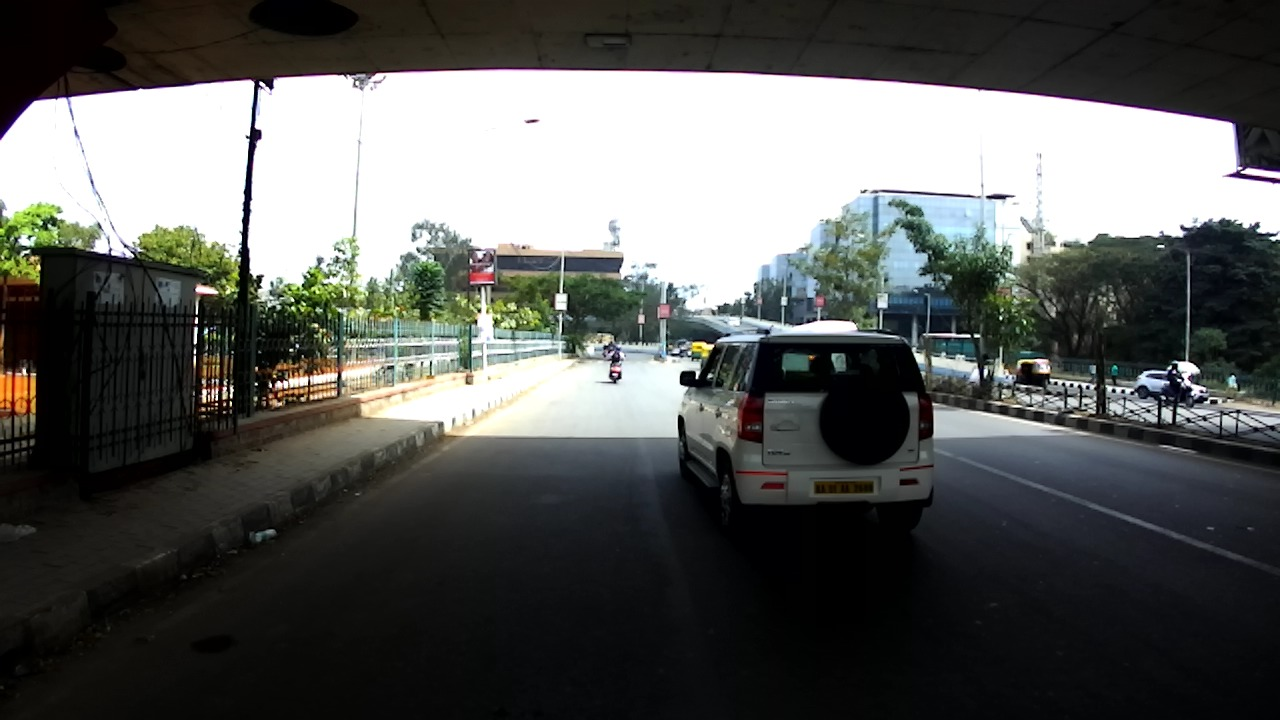autorickshaw: (1017, 358, 1052, 388), (690, 342, 707, 361), (701, 345, 715, 368)
bus: (919, 331, 1009, 366)
car: (678, 327, 937, 541), (1134, 369, 1209, 406), (670, 348, 681, 357)
motorcycle: (1158, 373, 1195, 407), (608, 355, 625, 384), (603, 349, 608, 357), (686, 352, 692, 358), (609, 346, 613, 354), (680, 353, 684, 358)
person: (1222, 370, 1239, 406), (1111, 364, 1119, 387), (1090, 361, 1097, 384)
rider: (1166, 361, 1181, 405), (608, 346, 626, 362), (608, 341, 613, 347), (603, 344, 607, 351), (680, 348, 684, 354), (687, 346, 691, 352)
vehicle fallback: (726, 316, 742, 327), (674, 339, 688, 349), (666, 338, 673, 353), (679, 345, 689, 353), (680, 349, 690, 357), (684, 341, 691, 348)
